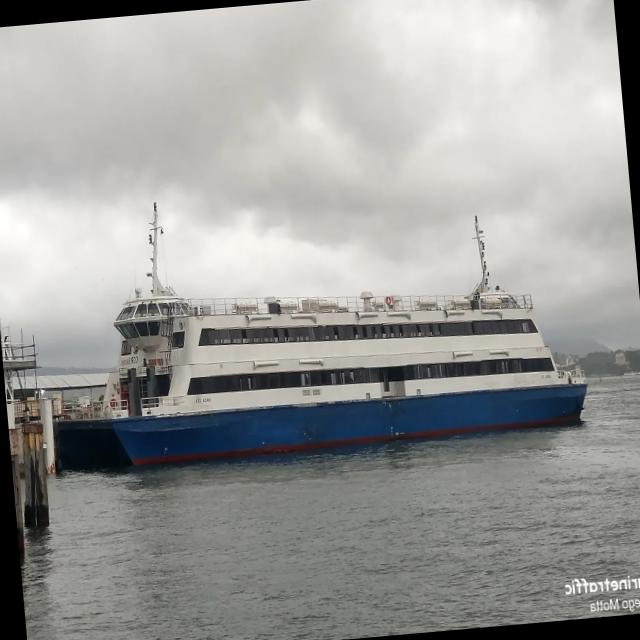Passenger: (105, 203, 586, 464)
